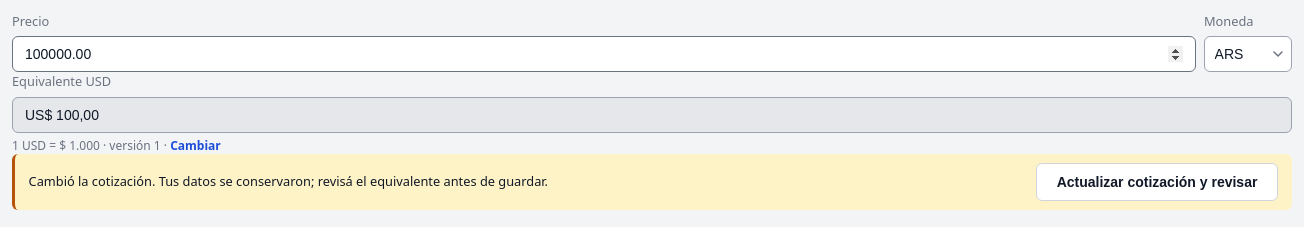
Test: Edición y adopción de referencias › conserva el principal ante conflicto y exige revisar la nueva cotización
expect the number field labelled "Precio" holds "100000": met, box [12, 36, 1196, 72]
Click the button "Actualizar cotización y revisar". click: x=1157, y=182
box: [1036, 163, 1278, 201]
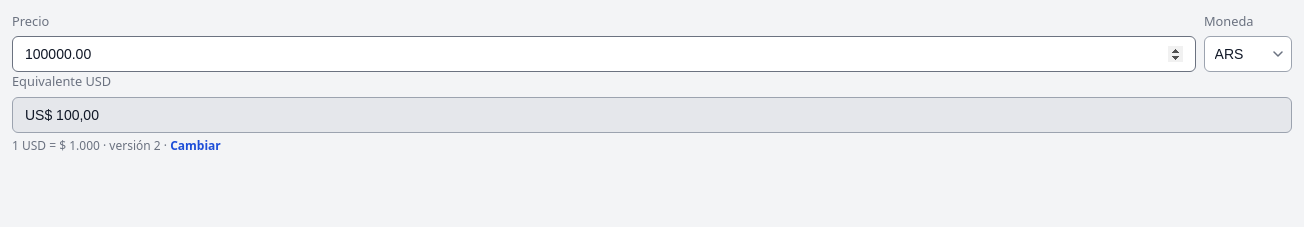
expect the number field labelled "Precio" holds "100000": met, box [12, 36, 1196, 72]
expect the text "1 USD = $ 1.000 · versión 2 · Cambiar" is shown: met, box [12, 137, 221, 154]
expect the button "Actualizar cotización y revisar" is gone: met
